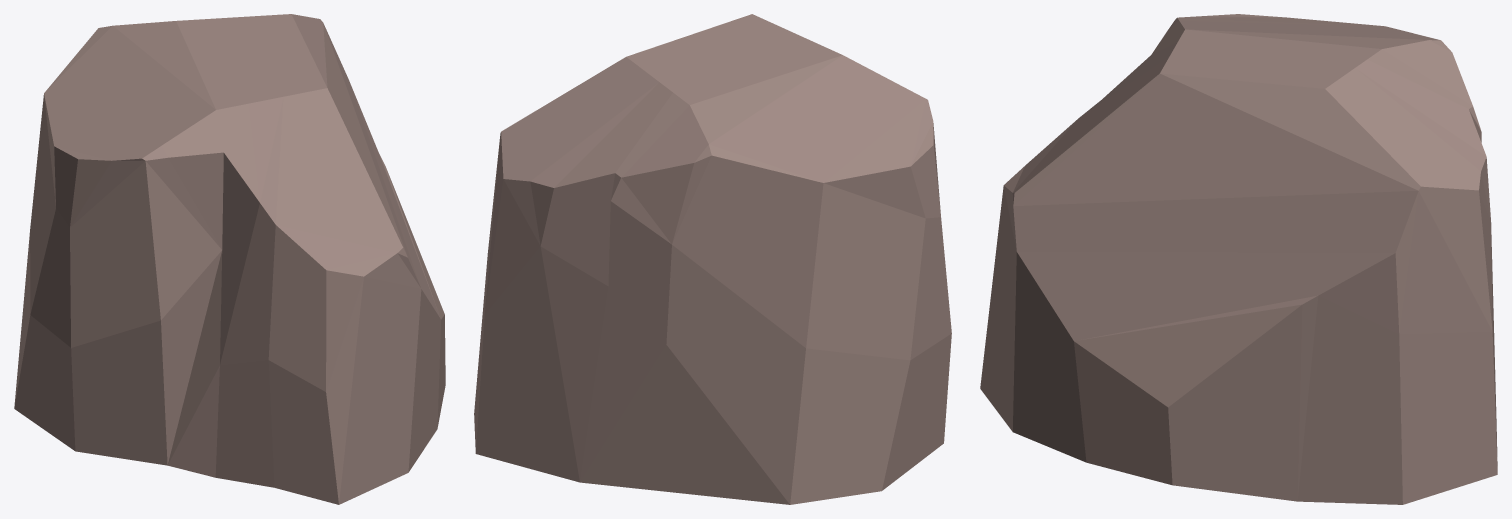
The model's file is Rock_12.fbx.
The picture shows the model from 3 angles, left to right: view 1: azimuth 30°, elevation 25°; view 2: azimuth 150°, elevation 25°; view 3: azimuth 270°, elevation 25°; orthographic projection. The views are drawn at different scales.
Parts seen in each view (by area): view 1: Rock_12; view 2: Rock_12; view 3: Rock_12.
Part boxes in pixels (x1,y1,x2,y2): Rock_12: [14, 14, 445, 504]; Rock_12: [474, 14, 951, 504]; Rock_12: [980, 14, 1497, 504].
Bounding box in the file's own units: 6.25 × 5.49 × 7.08.
